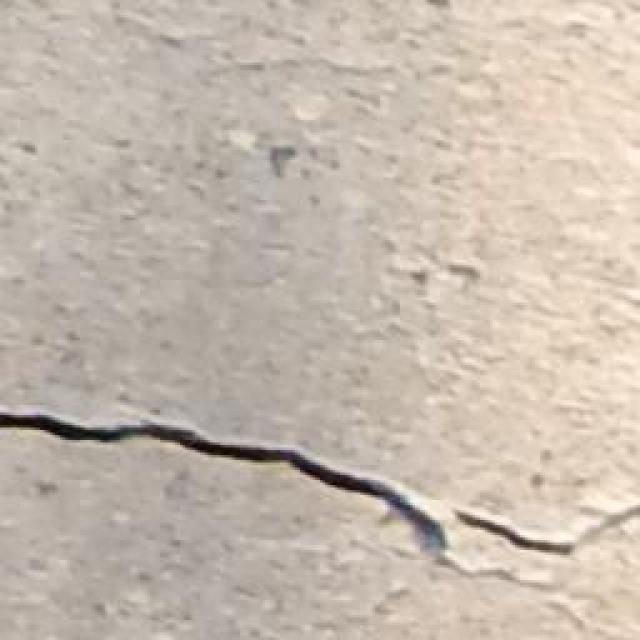concrete-crack: (5, 404, 640, 595)
